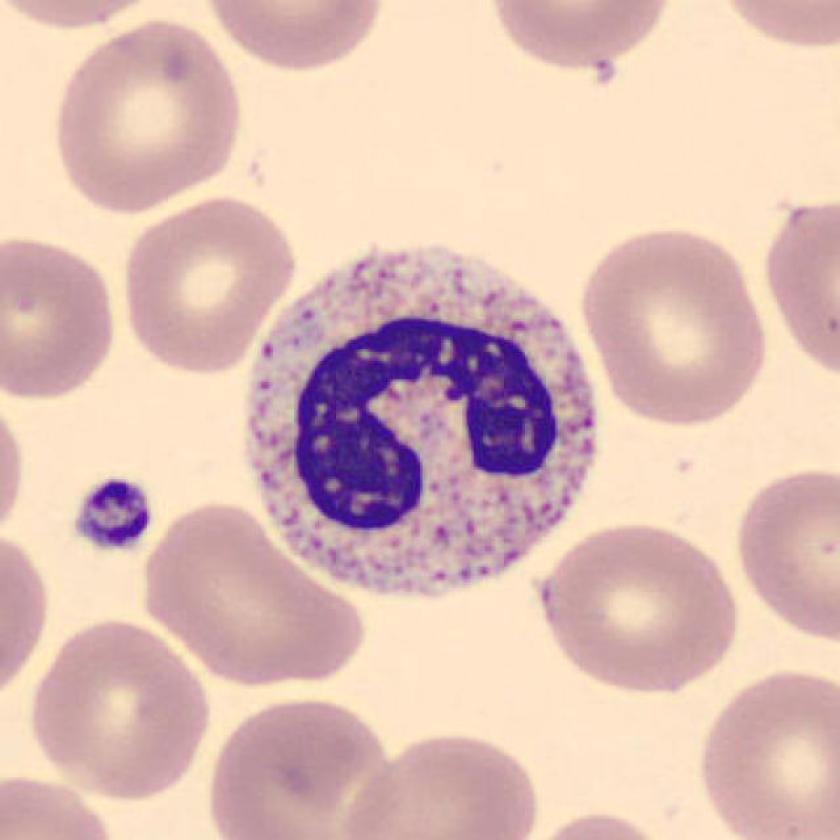neutrophil: (248, 248, 600, 598)
